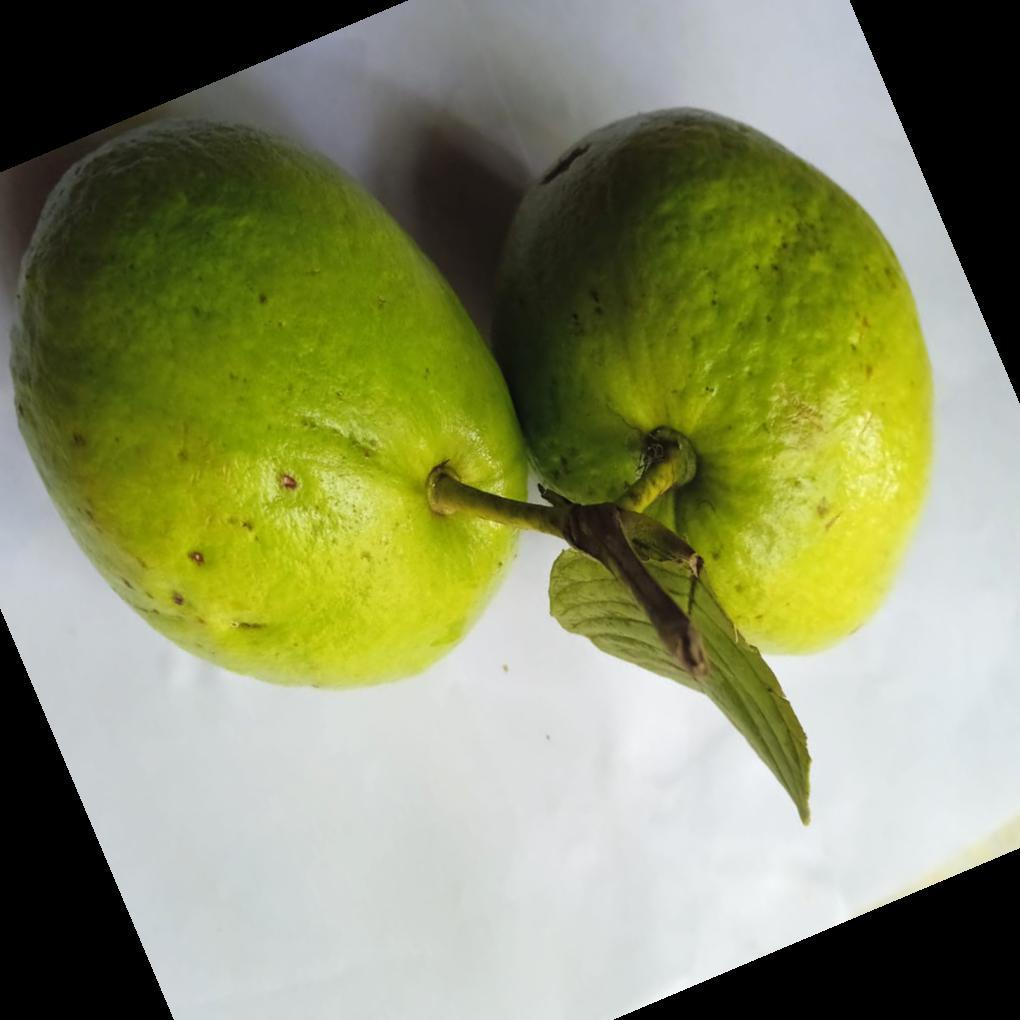FreshGuava: (8, 109, 936, 816)
